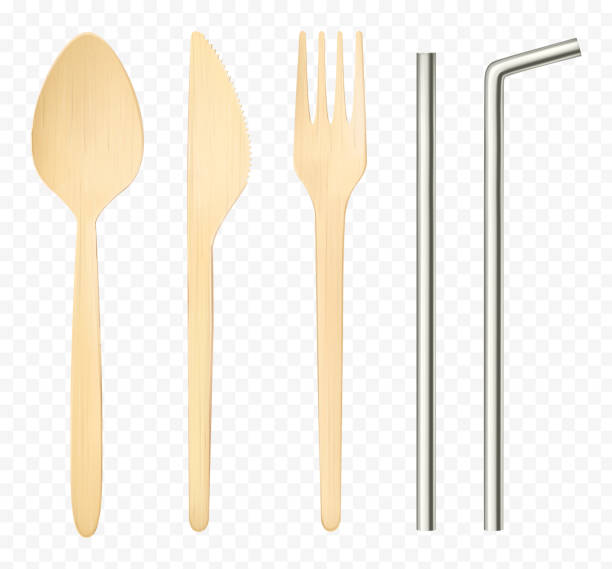Wooden Utensils: (30, 45, 143, 537), (163, 30, 265, 534), (288, 20, 367, 528)
